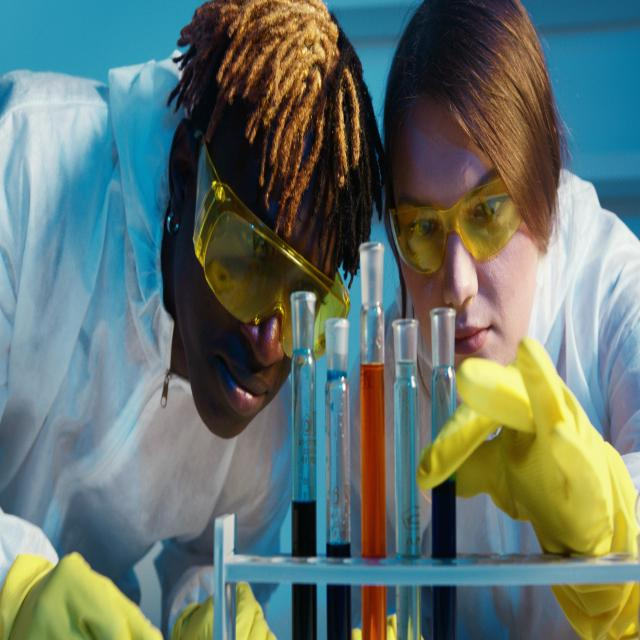Gloves: (421, 328, 615, 565), (25, 542, 178, 640), (169, 560, 284, 640), (349, 606, 427, 640)
Goggles: (193, 139, 352, 371)
